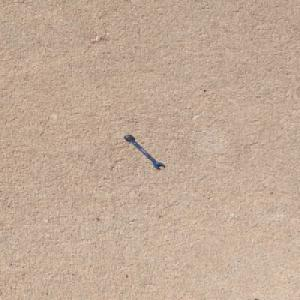Wrench: (123, 134, 165, 169)
